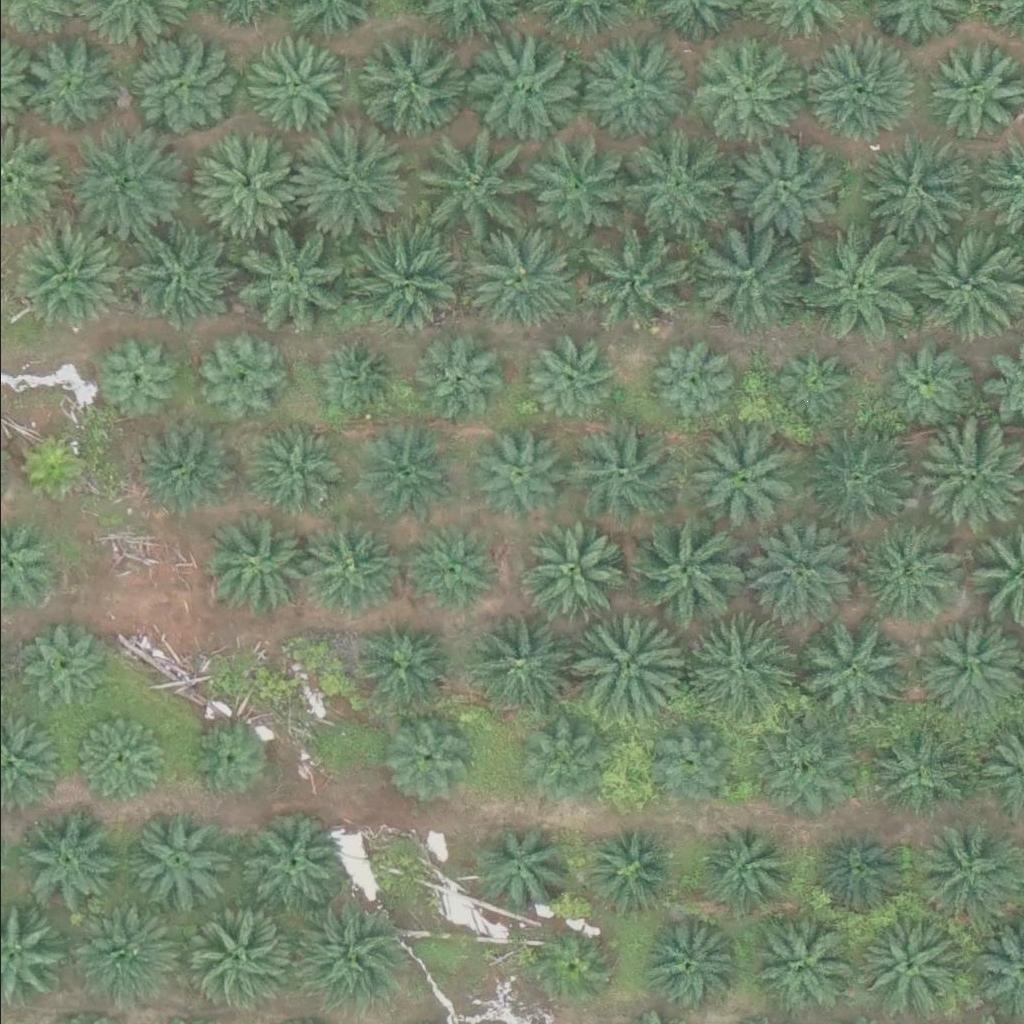Kelapa_Sawit: (284, 129, 398, 242), (861, 135, 975, 248), (463, 227, 576, 340), (344, 223, 457, 336), (228, 216, 341, 329), (459, 23, 572, 136), (796, 614, 909, 727), (680, 607, 793, 720), (907, 234, 1020, 347), (726, 128, 839, 241), (800, 34, 913, 147), (112, 215, 226, 327), (8, 219, 122, 331), (513, 524, 627, 636), (801, 229, 915, 341), (285, 897, 398, 1009), (453, 610, 566, 722), (63, 129, 176, 241), (190, 129, 303, 241), (415, 136, 528, 248), (354, 21, 467, 133), (910, 813, 1023, 925), (567, 614, 680, 726), (635, 515, 748, 627), (744, 511, 857, 623), (905, 425, 1018, 537), (803, 424, 916, 536), (684, 425, 797, 537), (563, 414, 676, 526), (692, 220, 805, 332), (582, 225, 695, 337), (527, 127, 640, 239), (618, 126, 731, 238), (571, 33, 684, 145), (18, 813, 119, 913), (294, 519, 395, 619), (202, 515, 303, 615), (246, 420, 347, 520), (137, 421, 238, 521), (240, 35, 341, 135), (128, 35, 229, 135), (19, 37, 120, 137), (635, 914, 736, 1014), (467, 820, 568, 920), (747, 714, 848, 814), (851, 526, 952, 626), (688, 41, 789, 141), (73, 903, 173, 1003), (197, 907, 297, 1007), (241, 815, 341, 915), (117, 805, 217, 905), (473, 427, 573, 527), (344, 422, 444, 522), (850, 917, 950, 1017), (746, 914, 846, 1014), (862, 724, 962, 824), (80, 714, 169, 802), (9, 424, 97, 512), (378, 713, 466, 801), (18, 620, 106, 708), (411, 525, 499, 613), (93, 333, 181, 421), (201, 337, 289, 425), (816, 829, 904, 917), (579, 826, 667, 914), (183, 716, 271, 803), (355, 621, 443, 708), (309, 335, 397, 422), (414, 335, 502, 422), (699, 821, 787, 908), (644, 722, 732, 809), (528, 718, 616, 805), (526, 338, 614, 425), (650, 338, 738, 425), (883, 349, 971, 436), (772, 347, 848, 422), (537, 932, 613, 1007)
